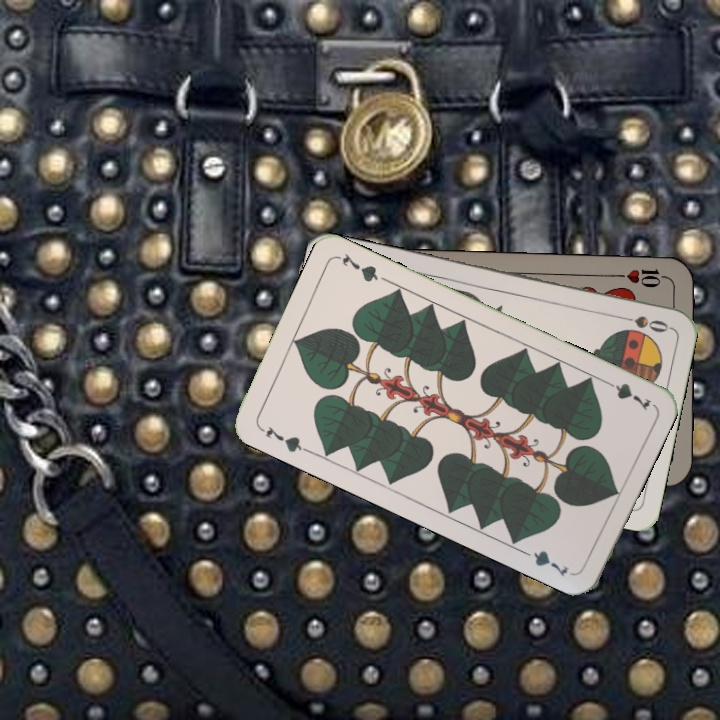G7: (598, 375, 654, 413), (255, 421, 311, 455)
H10: (612, 265, 671, 291)
SO: (613, 311, 672, 336)
